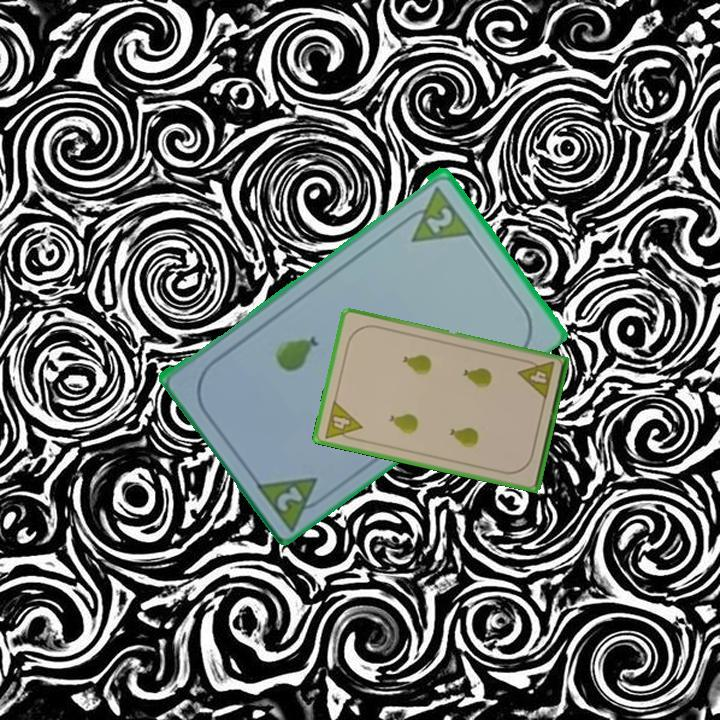2p: (422, 203, 456, 236), (273, 481, 306, 514)
4p: (321, 397, 365, 445), (515, 356, 557, 402)
